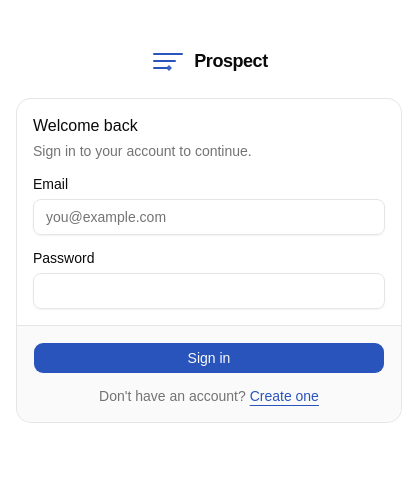
it: AuthForm — login state transitions › navigates from login to register via the alt link
Expected: the text "Welcome back" is shown, [33,116,138,134]
Expected: the field labelled "Name" is not shown
Step 1. Click the link "Create one" → (284, 396), box [250,388,319,404]
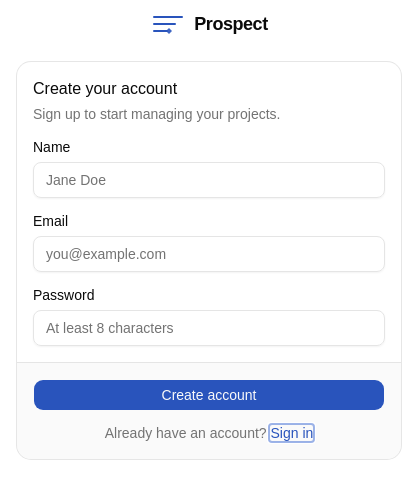
Expected: the text "Create your account" is shown, [33,80,177,96]
Expected: the field labelled "Name" is shown, [33,162,385,198]
